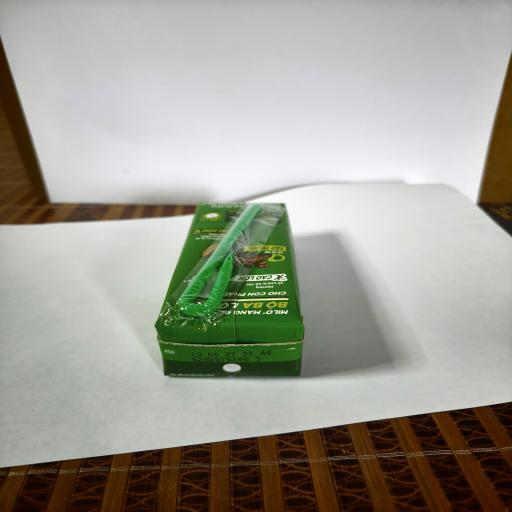milo: (154, 202, 304, 378)
